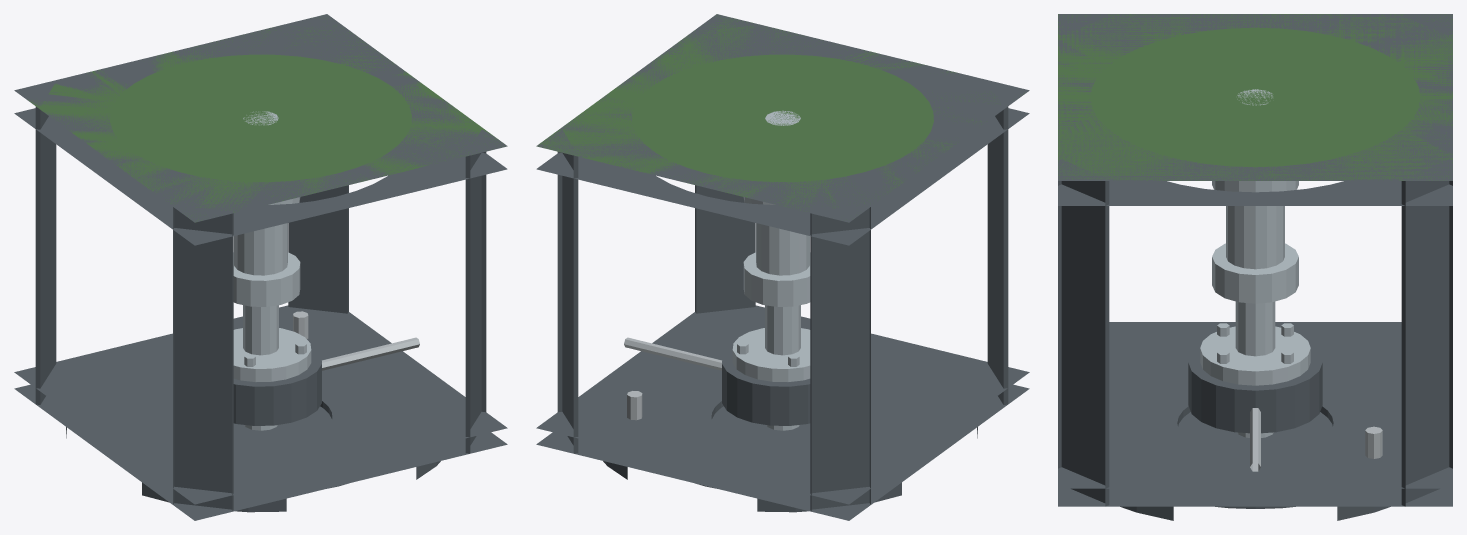
Rendered from cell_22.obj.
3 renders of one model, left to right at view 1: azimuth 30°, elevation 25°; view 2: azimuth 150°, elevation 25°; view 3: azimuth 270°, elevation 25°, orthographic. The views are drawn at different scales.
Size of the model in its own units: 1 by 0.95 by 1.
